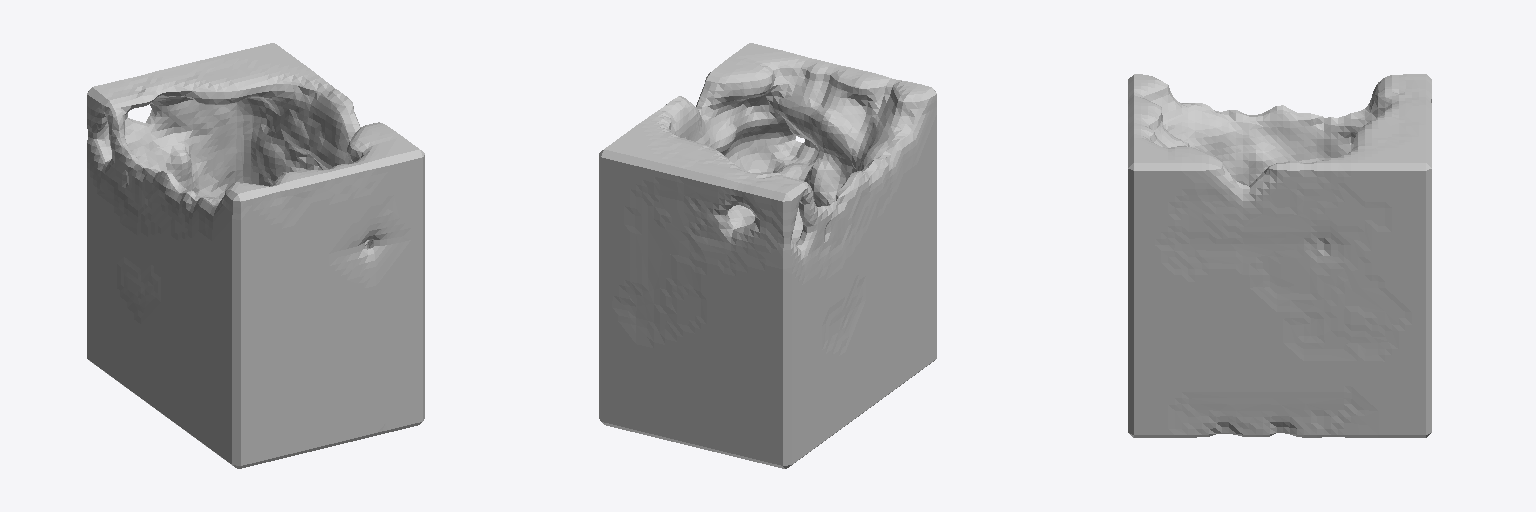
The picture shows the model from 3 angles: view 1: azimuth 30°, elevation 25°; view 2: azimuth 150°, elevation 25°; view 3: azimuth 270°, elevation 25°; orthographic projection.
Parts seen in each view (by area): view 1: Liquid_Domain; view 2: Liquid_Domain; view 3: Liquid_Domain.
Part boxes in pixels (left/top/right/bottom): Liquid_Domain: left=87, top=43, right=424, bottom=468; Liquid_Domain: left=599, top=43, right=936, bottom=468; Liquid_Domain: left=1128, top=74, right=1431, bottom=437.
Size of the model in its own units: 79.09 by 108 by 108.